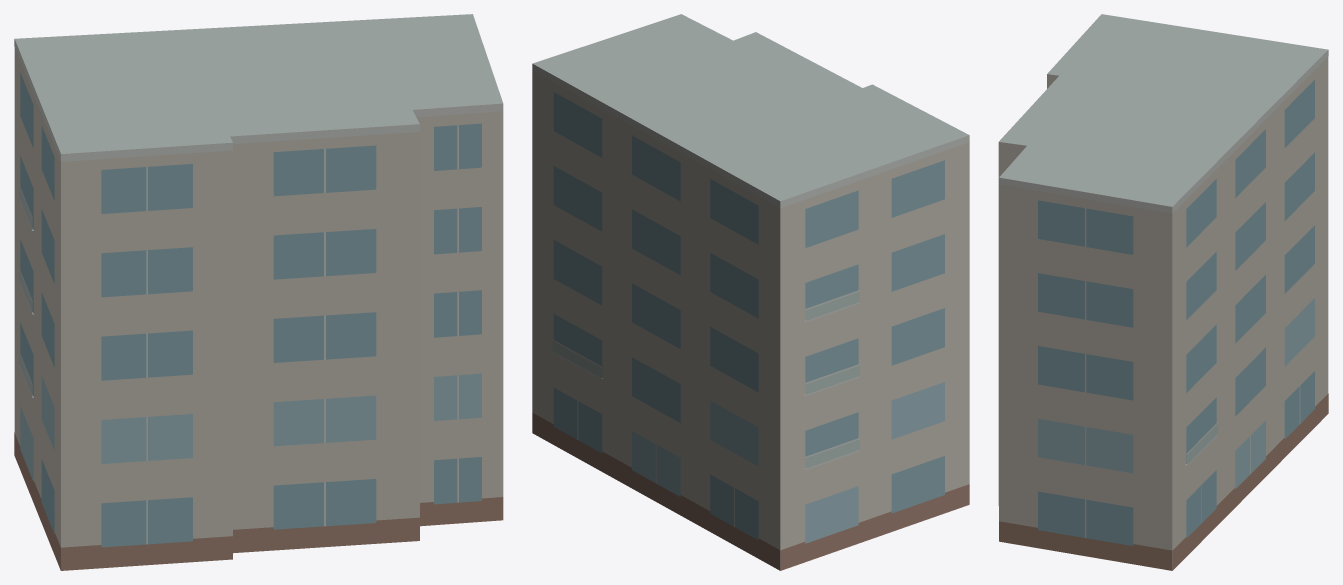
File: survey-upis-32565126.glb
The picture shows the model from 3 angles, left to right: view 1: azimuth 30°, elevation 25°; view 2: azimuth 150°, elevation 25°; view 3: azimuth 270°, elevation 25°; orthographic projection. The views are drawn at different scales.
Visible parts, largest first — view 1: survey-upis-32565126.tmp; view 2: survey-upis-32565126.tmp; view 3: survey-upis-32565126.tmp.
Boxes of the visible parts, x1=… form: survey-upis-32565126.tmp: x1=14, y1=14, x2=503, y2=570; survey-upis-32565126.tmp: x1=532, y1=14, x2=969, y2=570; survey-upis-32565126.tmp: x1=998, y1=14, x2=1328, y2=570.
Size of the model in its own units: 14.89 by 13.1 by 10.77.
